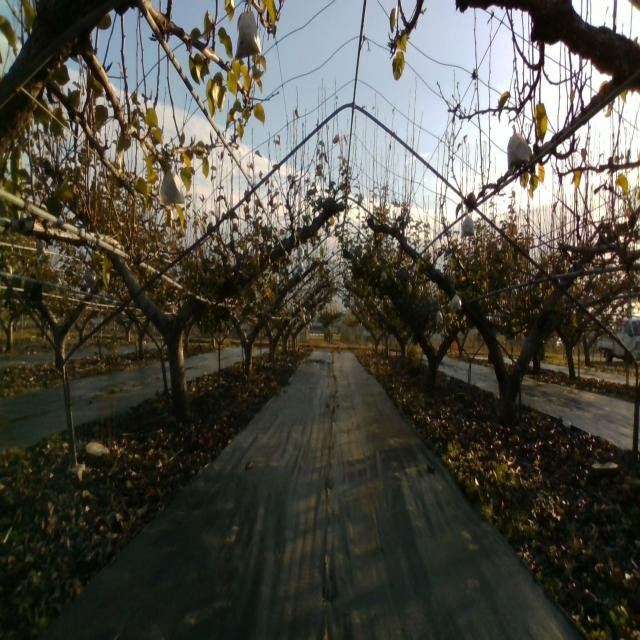pearbags: (234, 10, 262, 60), (507, 125, 530, 175), (160, 168, 186, 205), (461, 212, 477, 238), (449, 290, 462, 309)
